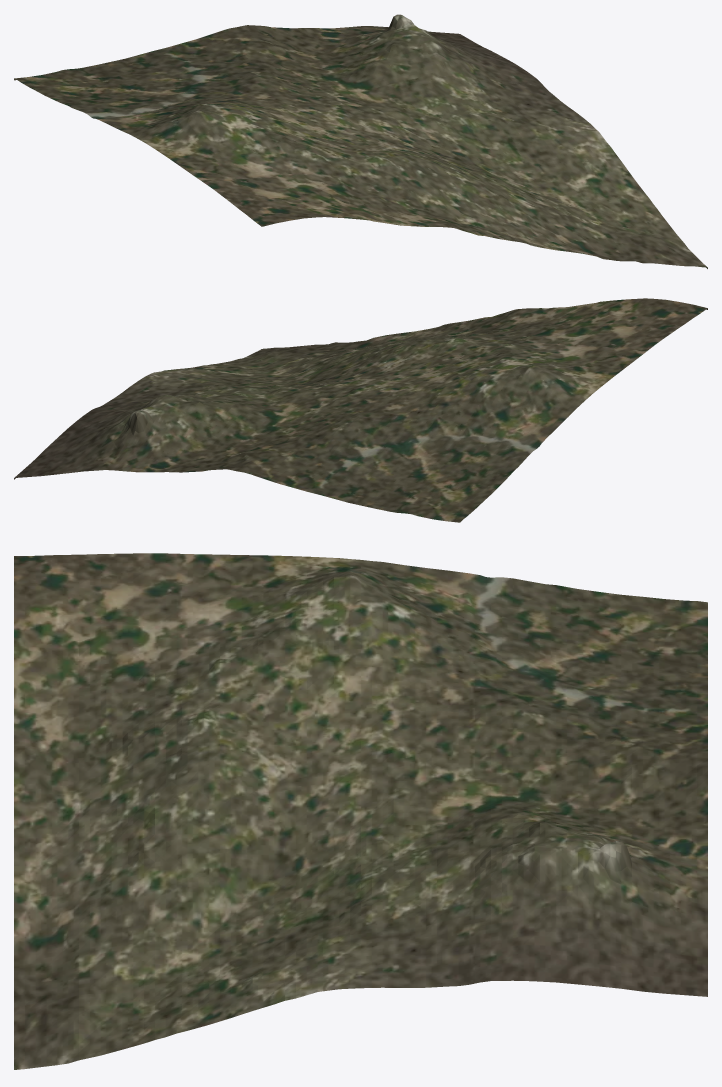
3 renders of one model, top to bottom at view 1: azimuth 30°, elevation 25°; view 2: azimuth 150°, elevation 25°; view 3: azimuth 270°, elevation 25°, orthographic. The views are drawn at different scales.
Bounding box in the file's own units: 250 × 88.27 × 241.
1 material, 1 textured.
